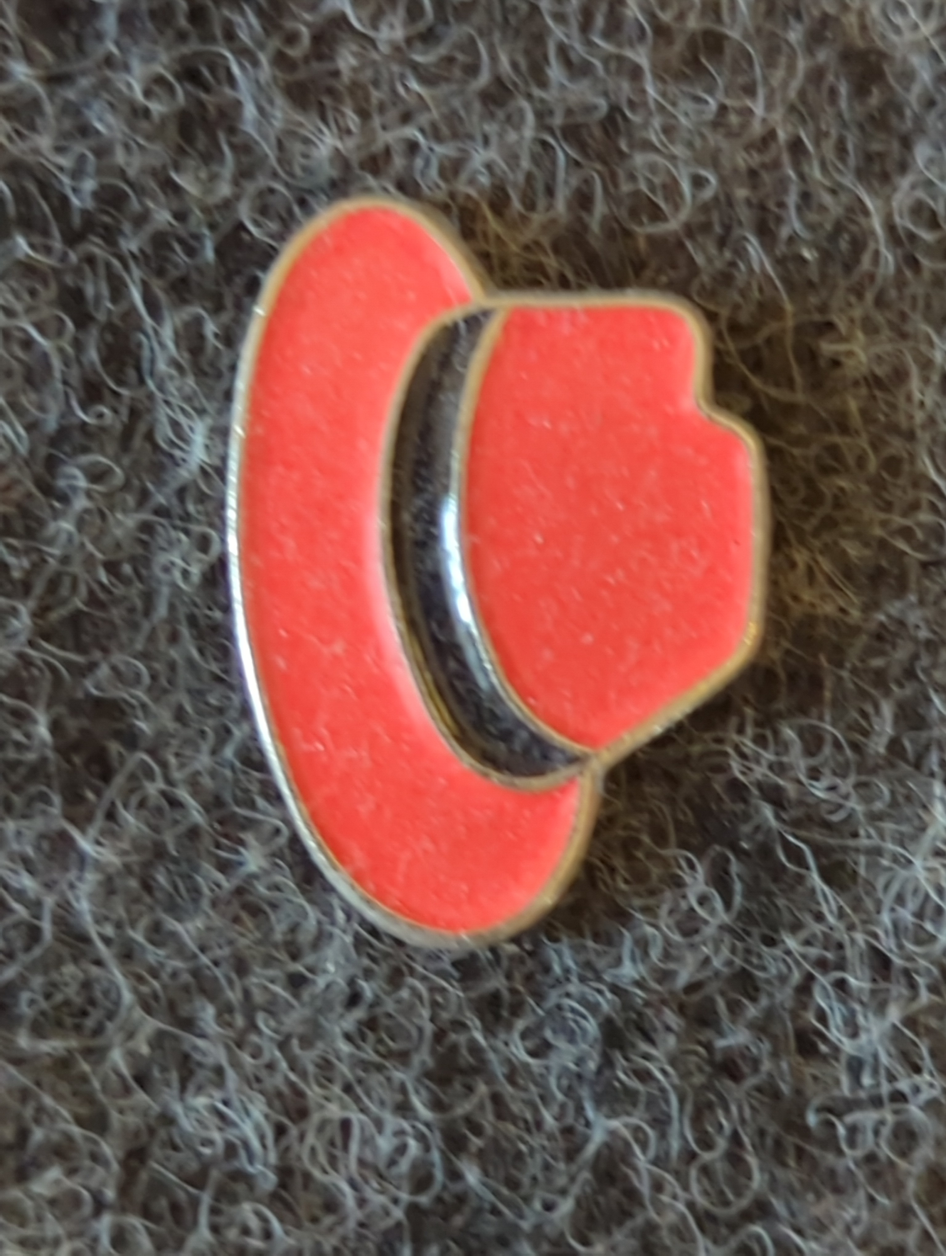Red-Hat: (123, 80, 902, 1023)
